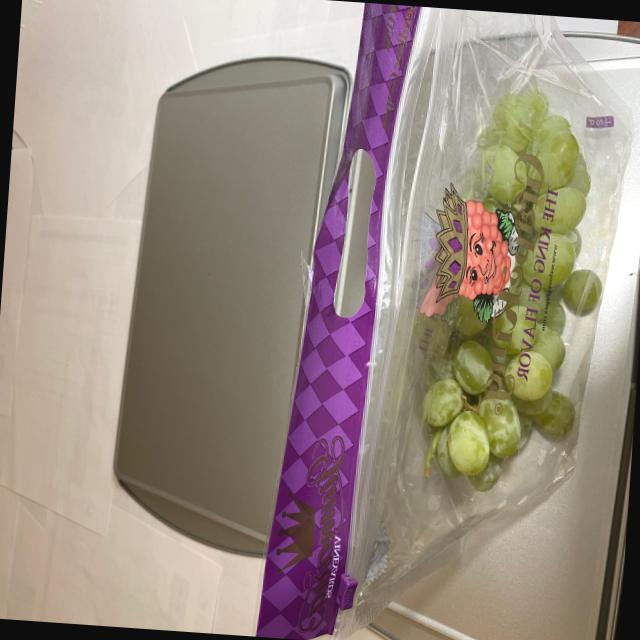grapes: (406, 56, 614, 518)
